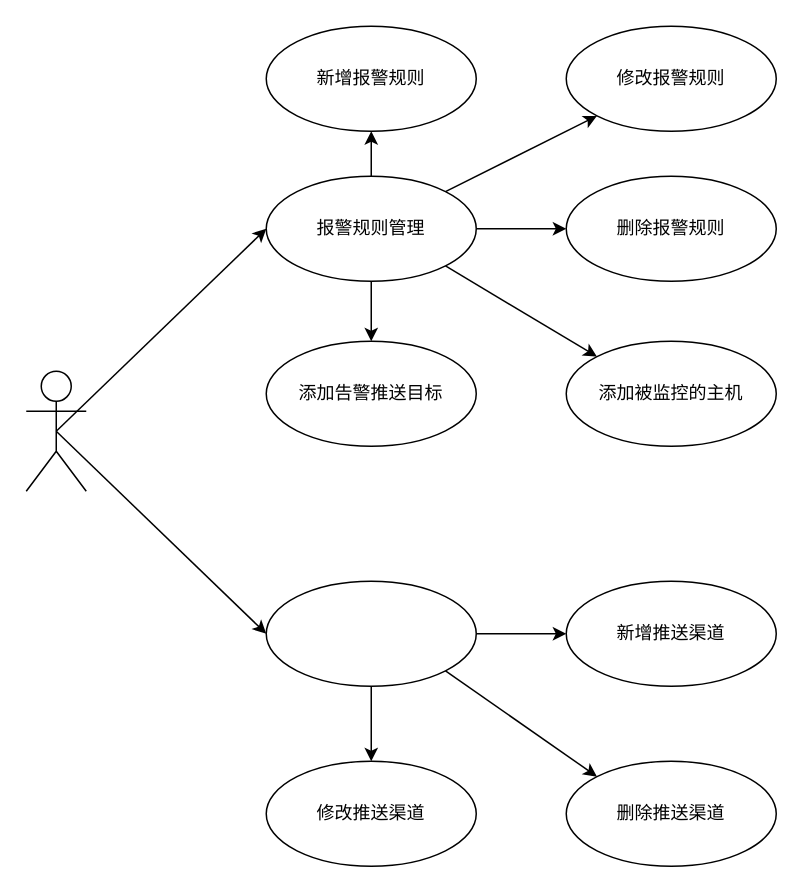
The diagram is 803 pixels wide and 893 high, and some of its shapes have lost their labels. The box of each missing label's shape, as (x1, y1, x2, y2) in pixels:
推送渠道管理: (265, 580, 476, 686)
管理员: (25, 370, 86, 491)
